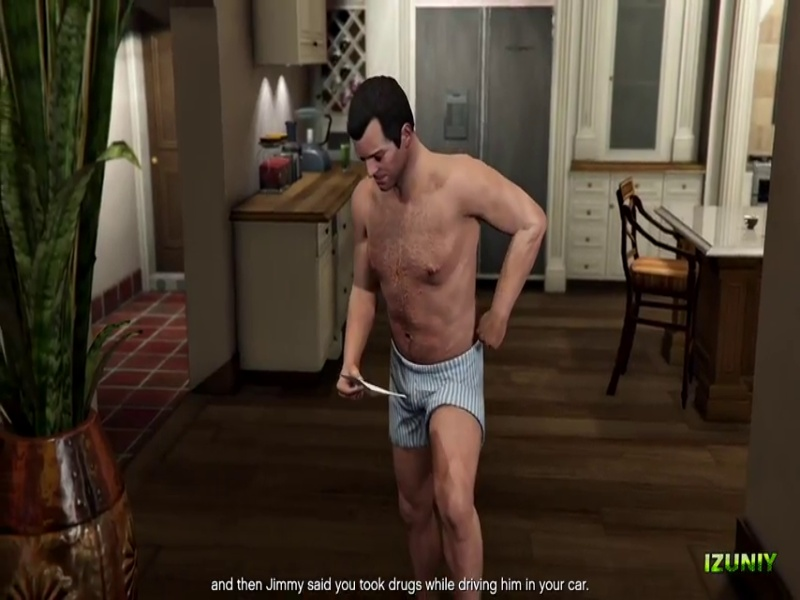human: (319, 81, 545, 579)
